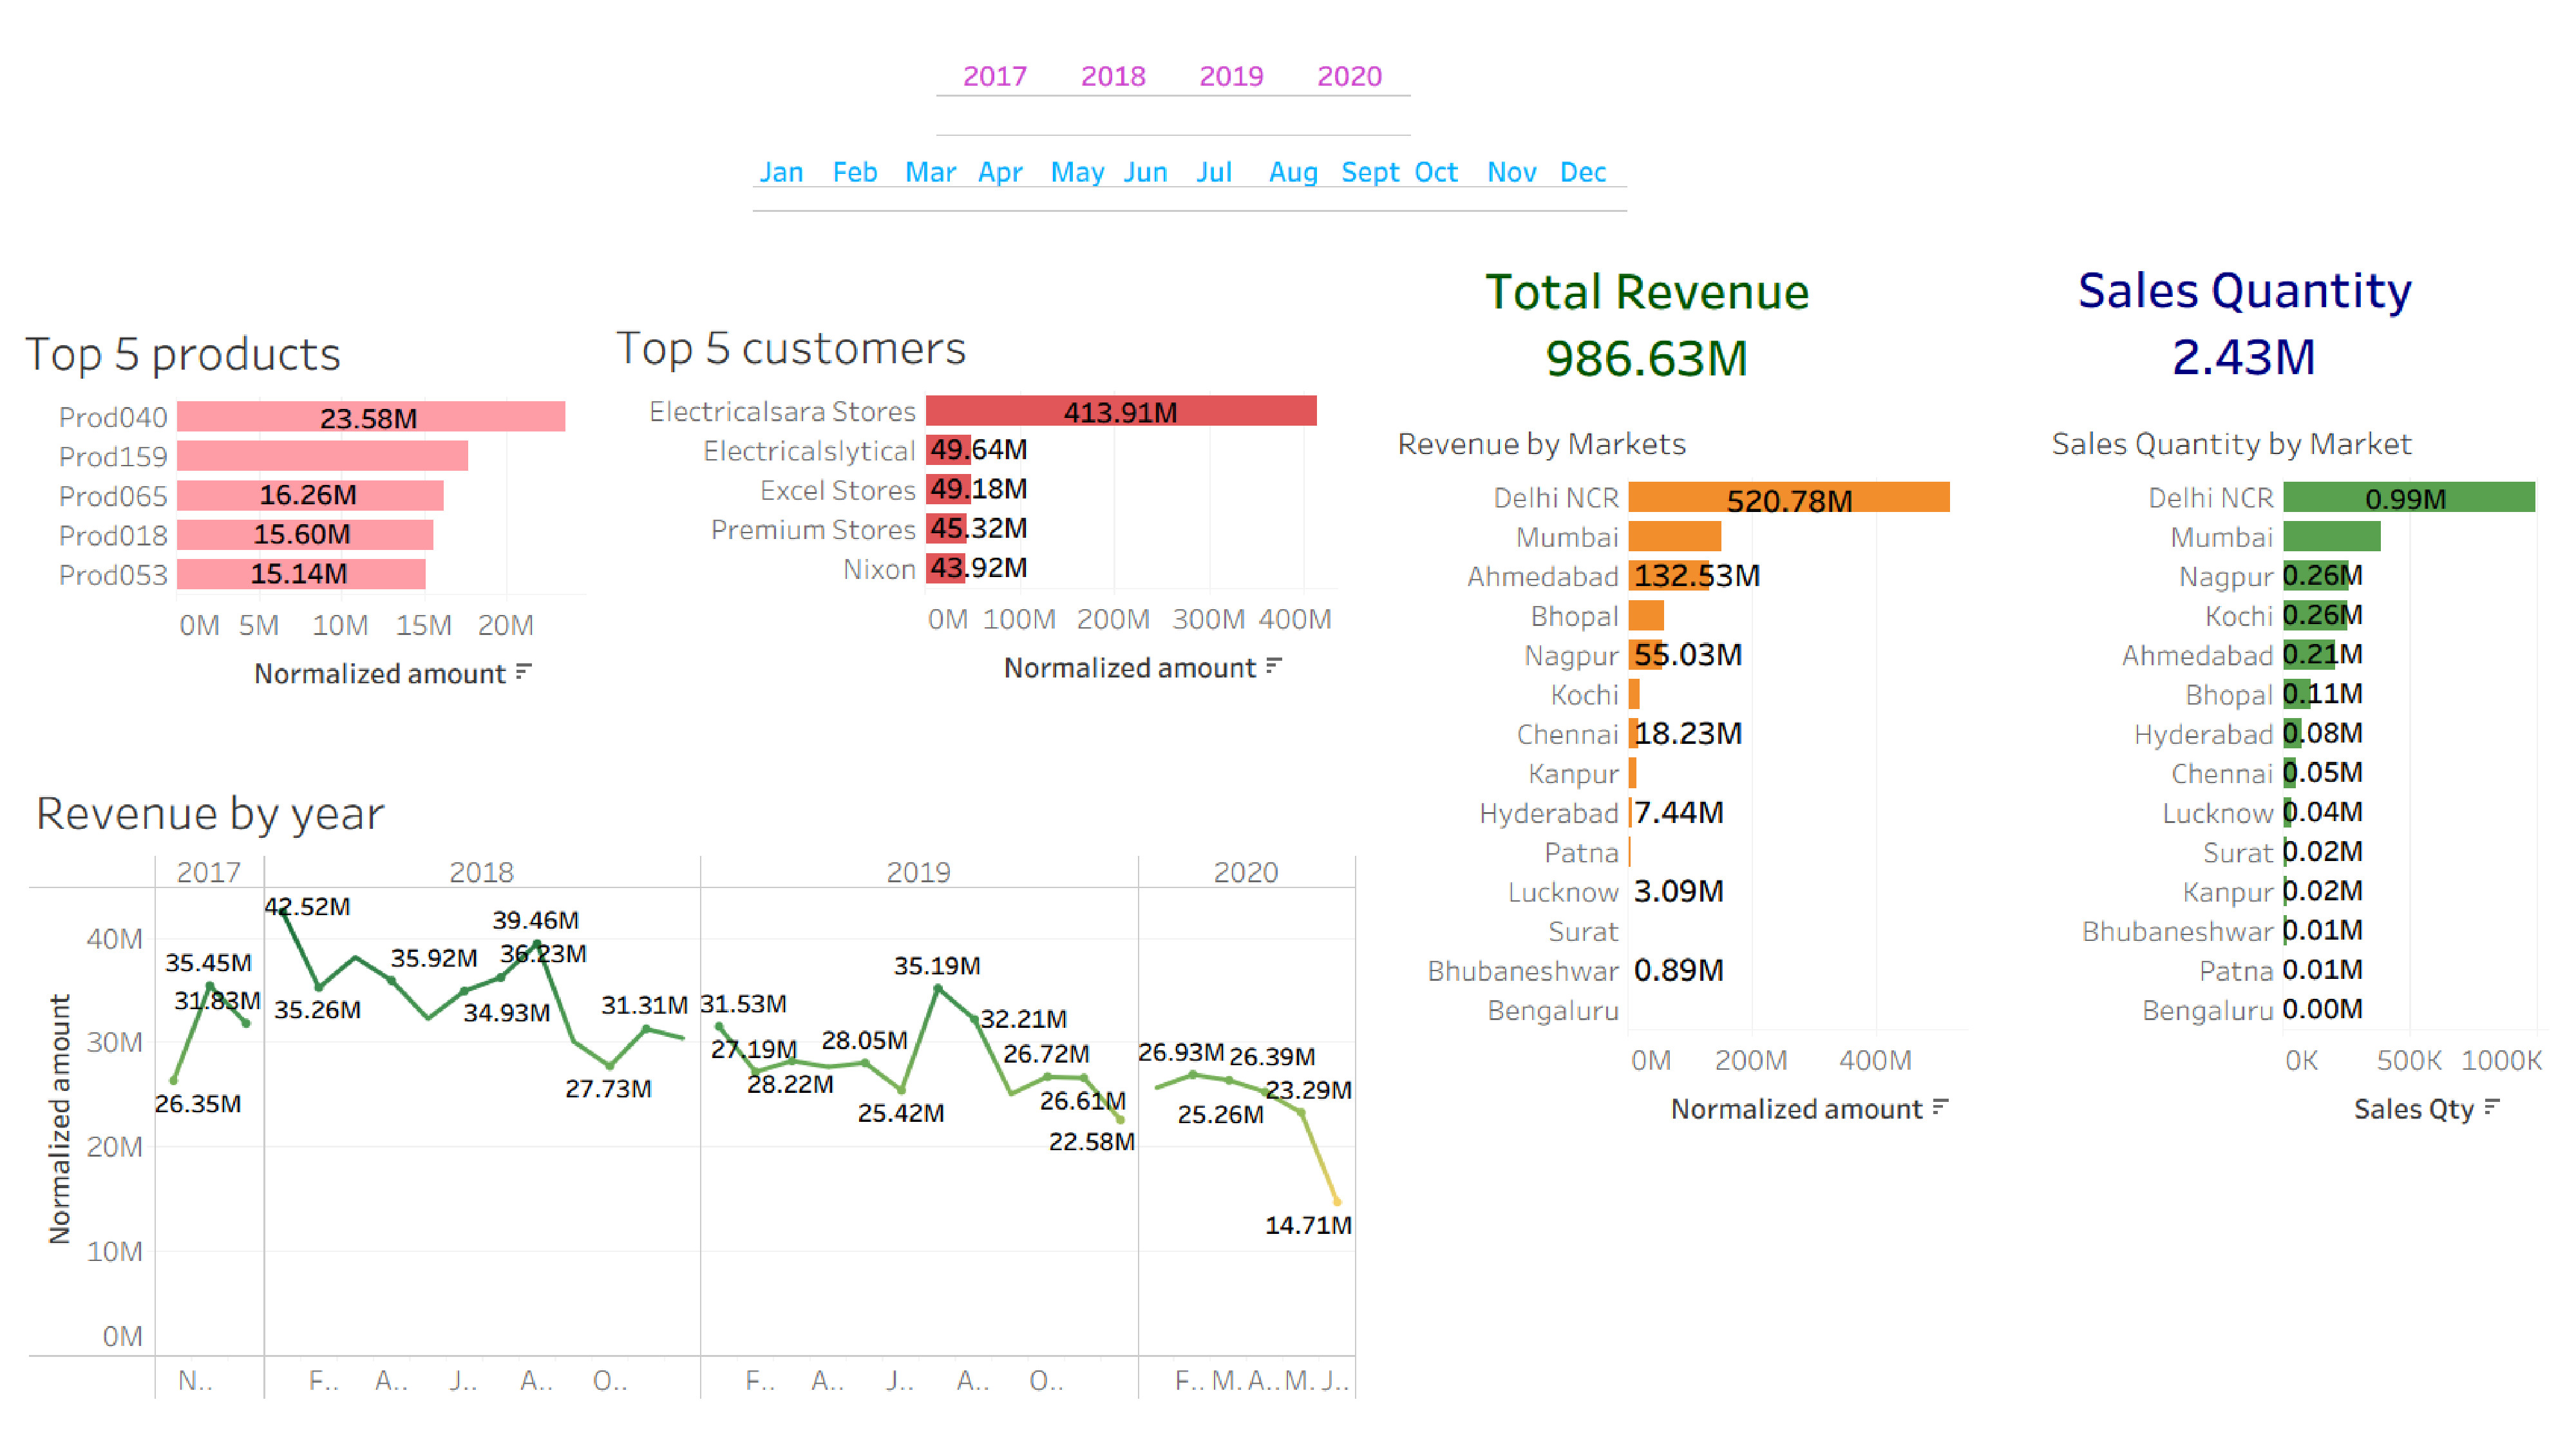

What the dashboard file says about the page in this screenshot:
{"tool":"tableau","page":{"name":"Dashboard 1","canvas":[1700,900],"ordinal":0},"visuals":[{"type":"worksheet","title":"Year","mark":"Automatic","cols":["cy_date"],"box":[617.7,9,381.9,82]},{"type":"worksheet","title":"Month","mark":"Automatic","cols":["cy_date"],"box":[497,75,668,96]},{"type":"worksheet","title":"Revenue","mark":"Automatic","box":[968,142,412,268]},{"type":"worksheet","title":"Top 5 customers","mark":"Automatic","rows":["custmer_name"],"cols":["Calculation_1147854980190883840"],"box":[402,173,480,300]},{"type":"worksheet","title":"Top 5 products","mark":"Automatic","rows":["product_code (products)"],"cols":["Calculation_1147854980190883840"],"box":[12.5,176.6,374,299.2]},{"type":"worksheet","title":"Revenue by Markets","mark":"Automatic","rows":["markets_name"],"cols":["Calculation_1147854980190883840"],"box":[918,244,380,569]},{"type":"worksheet","title":"Revenue by year","mark":"Automatic","rows":["Calculation_1147854980190883840"],"cols":["cy_date","cy_date"],"box":[19,480,877,416]}]}

Visuals, with their boxes on the page's 1700x900 design canvas (x1, y1, x2, y2). These are canvas units, not pixel positions in the 2576x1449 screenshot, which may show the page scaled, cropped or inside an application window:
"Year" worksheet: region(618, 9, 1000, 91)
"Month" worksheet: region(497, 75, 1165, 171)
"Revenue" worksheet: region(968, 142, 1380, 410)
"Top 5 customers" worksheet: region(402, 173, 882, 473)
"Top 5 products" worksheet: region(12, 177, 386, 476)
"Revenue by Markets" worksheet: region(918, 244, 1298, 813)
"Revenue by year" worksheet: region(19, 480, 896, 896)
